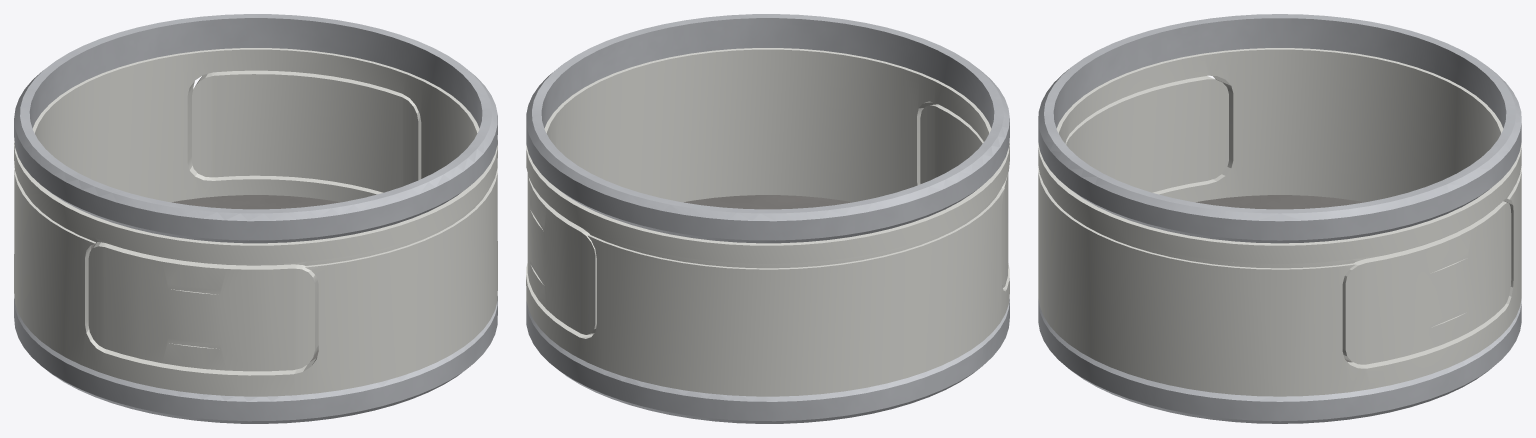
File: ax_struct_12_service_bay_s.glb
3 renders of one model, left to right at view 1: azimuth 30°, elevation 25°; view 2: azimuth 150°, elevation 25°; view 3: azimuth 270°, elevation 25°, orthographic.
Visible parts, largest first — view 1: bay_barrel, interface_rings, door_2, door_1, slot_deck; view 2: bay_barrel, interface_rings, door_1, door_2, slot_deck; view 3: bay_barrel, interface_rings, door_1, door_2, slot_deck.
Part boxes in pixels (box(x1,y1,x2,y2)): bay_barrel: box(14, 48, 497, 396); interface_rings: box(14, 14, 497, 423); door_2: box(88, 242, 318, 371); door_1: box(192, 70, 421, 192); slot_deck: box(91, 195, 339, 361); bay_barrel: box(526, 48, 1009, 396); interface_rings: box(526, 14, 1009, 423); door_1: box(527, 173, 596, 334); door_2: box(920, 104, 1008, 287); slot_deck: box(684, 195, 851, 209); bay_barrel: box(1038, 48, 1521, 396); interface_rings: box(1038, 14, 1521, 423); door_1: box(1342, 201, 1511, 364); door_2: box(1065, 76, 1228, 192); slot_deck: box(1196, 195, 1363, 362).
Bounding box in the file's own units: 1.25 × 0.6 × 1.25.
3 materials, 2 textured.
